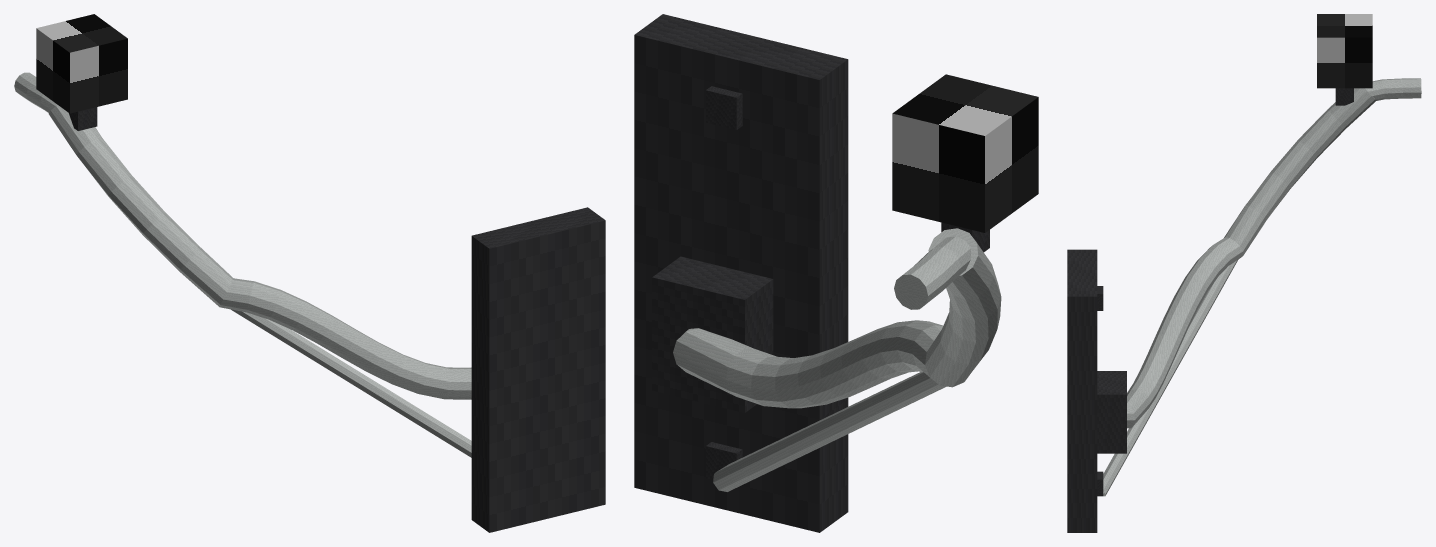
Rendered from arm_1_left.obj.
3 views of the same model, side by side, from view 1: azimuth 30°, elevation 25°; view 2: azimuth 150°, elevation 25°; view 3: azimuth 270°, elevation 25° (orthographic). The views are drawn at different scales.
Visible parts, largest first — view 1: pole_light_mount_1_left; view 2: pole_light_mount_1_left; view 3: pole_light_mount_1_left.
Part boxes in pixels (left/top/right/bottom): pole_light_mount_1_left: left=14, top=14, right=605, bottom=532; pole_light_mount_1_left: left=634, top=14, right=1038, bottom=532; pole_light_mount_1_left: left=1067, top=14, right=1421, bottom=532.
Bounding box in the file's own units: 1.24 × 1.34 × 1.19.
